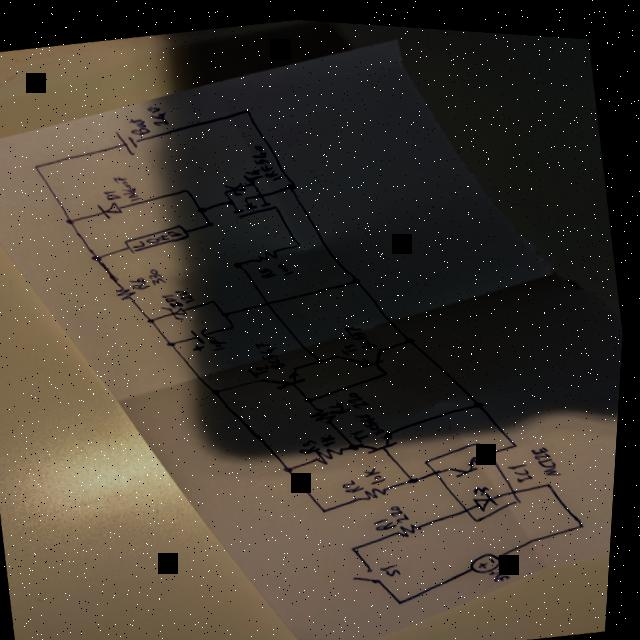capacitor: (190, 322, 220, 352)
crossover: (264, 296, 275, 304)
diode: (96, 198, 126, 221), (160, 300, 191, 322), (224, 178, 249, 195)
junction: (90, 252, 106, 263), (285, 460, 299, 471), (352, 539, 366, 549), (474, 393, 487, 403), (399, 591, 412, 601), (305, 392, 319, 401), (578, 513, 592, 522), (350, 271, 364, 280), (410, 470, 423, 479), (212, 385, 225, 394), (284, 178, 297, 187), (545, 473, 558, 482), (511, 434, 524, 443), (232, 258, 246, 266), (351, 437, 362, 447), (65, 216, 77, 225), (147, 314, 159, 323), (167, 337, 179, 346), (406, 331, 418, 340), (381, 364, 393, 373), (322, 502, 335, 510), (205, 217, 218, 225), (317, 352, 328, 361), (221, 307, 233, 315), (197, 203, 209, 211), (181, 184, 192, 192), (32, 163, 42, 171), (241, 104, 251, 111), (210, 295, 220, 302), (294, 238, 304, 244), (250, 177, 258, 184), (230, 321, 239, 327), (257, 189, 266, 195), (227, 197, 235, 202), (223, 187, 230, 192)
resistor: (121, 217, 195, 257), (313, 440, 350, 463), (360, 478, 397, 500), (397, 513, 429, 536), (311, 399, 341, 422), (251, 243, 282, 261), (114, 282, 141, 301)
source: (472, 543, 510, 570), (114, 126, 141, 157)
switch: (355, 559, 388, 582)
text: (248, 137, 286, 181), (255, 334, 291, 369), (132, 225, 184, 249), (533, 436, 567, 472), (344, 317, 382, 348), (111, 170, 144, 204), (356, 405, 390, 434), (510, 454, 538, 479), (145, 101, 171, 127), (348, 383, 375, 407), (126, 113, 152, 137), (391, 496, 417, 520), (365, 460, 390, 481), (249, 358, 274, 378), (382, 556, 409, 574), (375, 510, 403, 527), (161, 289, 186, 308), (299, 434, 324, 453), (175, 284, 200, 303), (128, 273, 153, 291), (344, 472, 368, 490), (493, 561, 518, 578), (330, 395, 355, 412), (149, 264, 169, 285), (352, 422, 375, 440), (242, 164, 265, 182), (210, 331, 231, 350), (277, 257, 297, 274), (320, 428, 341, 444), (341, 337, 362, 353), (102, 187, 124, 201), (258, 263, 278, 277)
transistor: (336, 337, 392, 369), (228, 186, 280, 219), (261, 360, 311, 390), (355, 423, 404, 453)
